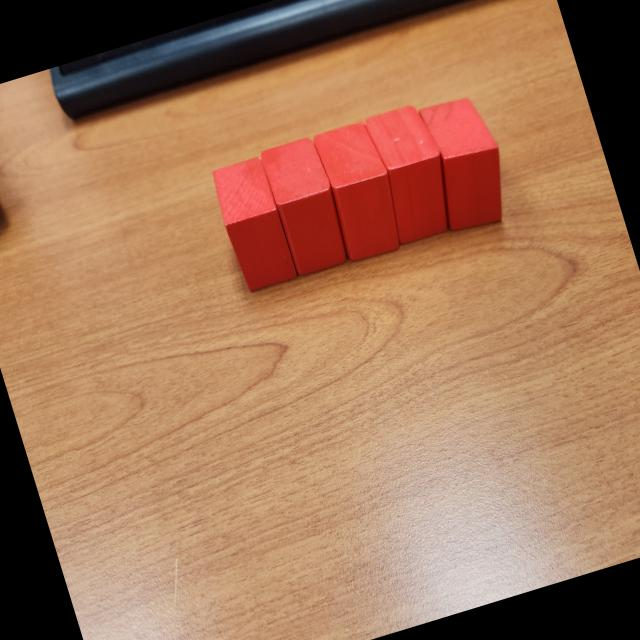red: (412, 90, 519, 236), (310, 116, 410, 266), (362, 100, 464, 246), (257, 128, 354, 278), (208, 153, 299, 295)
